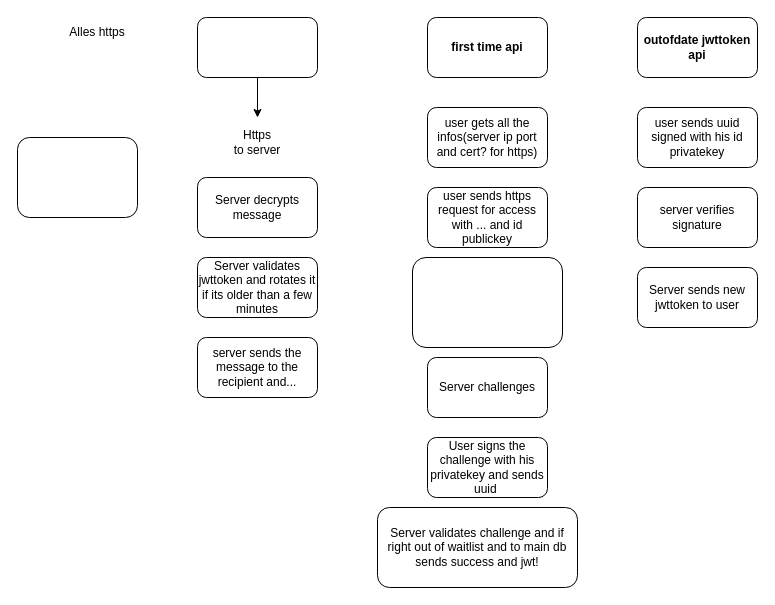
This 775x605 diagram has some shape labels left out. The box of each missing label's shape, as (x1, y1, x2, y2) in pixels:
normal API: (196, 16, 318, 78)
Server needs Users id(-entity) public/privatekey: (16, 136, 138, 218)
user in waitlist and needs to refresh(when accepted) too continue GETS uuid: (412, 256, 562, 348)
